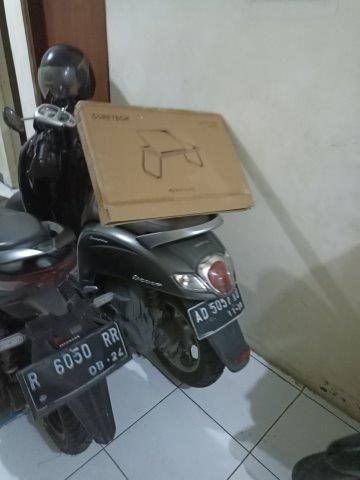kardus: (75, 102, 253, 226)
